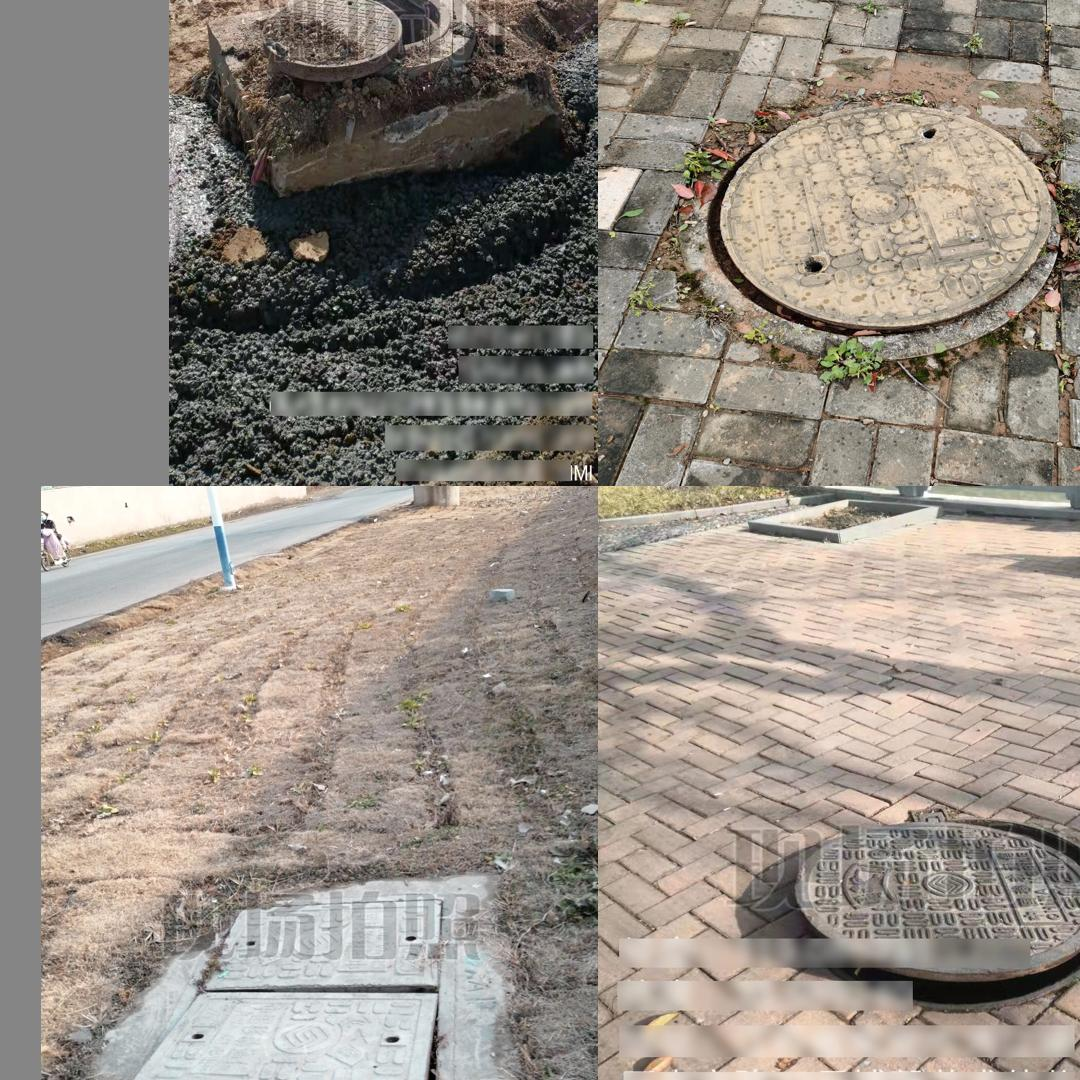uncovered: (680, 101, 1061, 362), (120, 897, 447, 1080), (796, 809, 1080, 1010), (262, 0, 476, 83)
